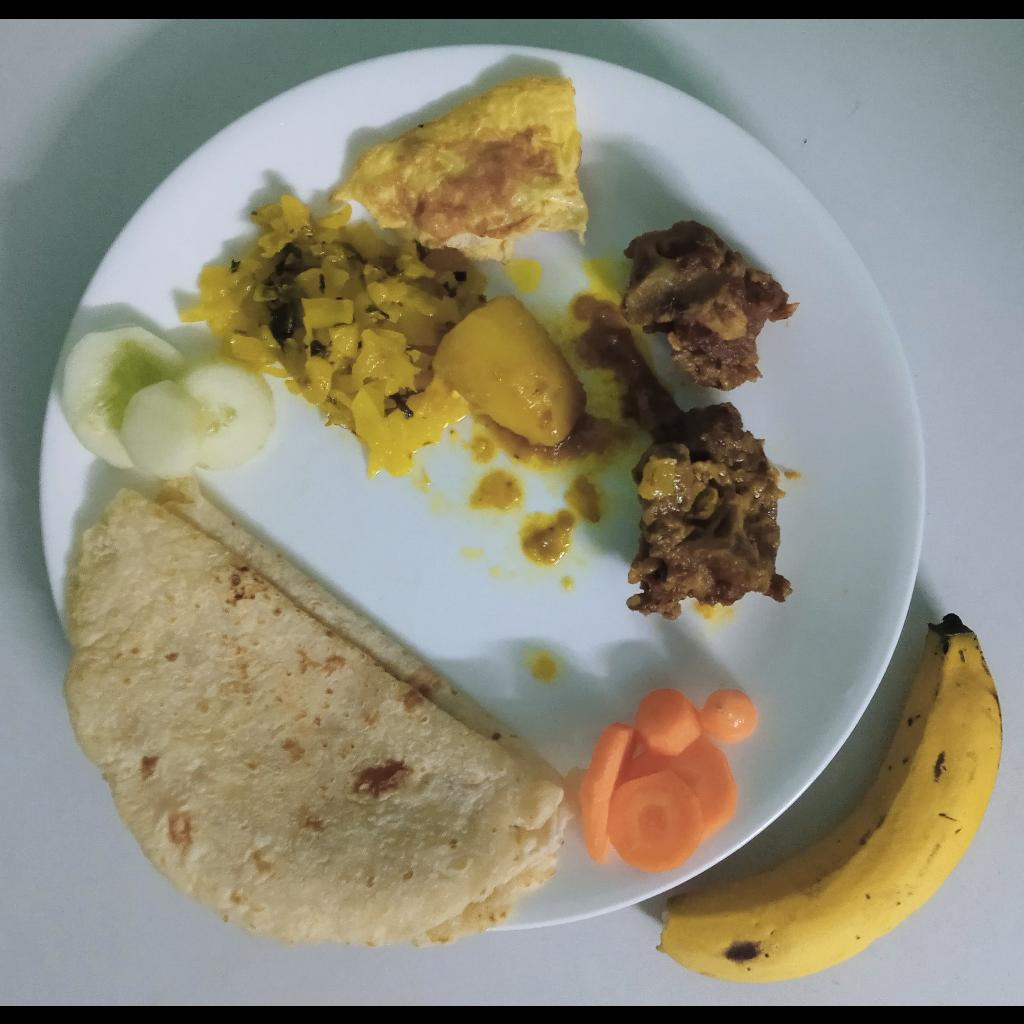banana: (661, 612, 1004, 982)
beef: (627, 401, 793, 618), (622, 220, 798, 389)
carrot: (578, 687, 757, 870)
cucumber: (328, 76, 589, 259), (62, 325, 276, 477)
ruti: (62, 478, 586, 946)
vegetable: (182, 194, 586, 479)
